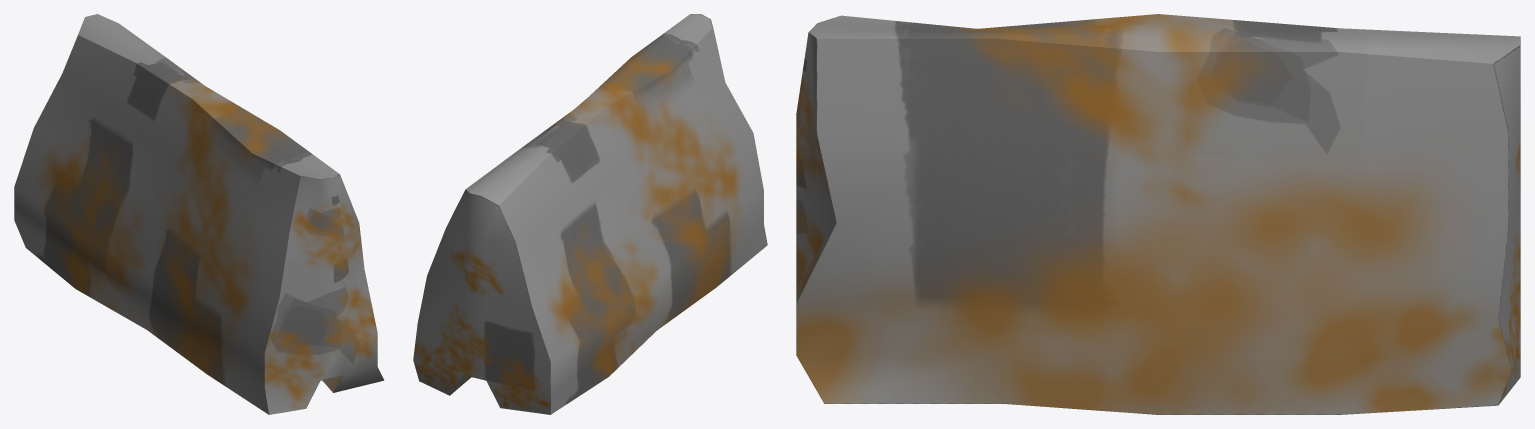
The model's file is barricade_01.fbx.
3 views of the same model, side by side, from view 1: azimuth 30°, elevation 25°; view 2: azimuth 150°, elevation 25°; view 3: azimuth 270°, elevation 25° (orthographic). The views are drawn at different scales.
Parts seen in each view (by area): view 1: barricade_1; view 2: barricade_1; view 3: barricade_1.
Boxes of the visible parts, bbox=[...] form: barricade_1: bbox=[14, 14, 384, 414]; barricade_1: bbox=[413, 14, 767, 414]; barricade_1: bbox=[796, 14, 1520, 414].
Size of the model in its own units: 2.4 by 3.28 by 6.51.
